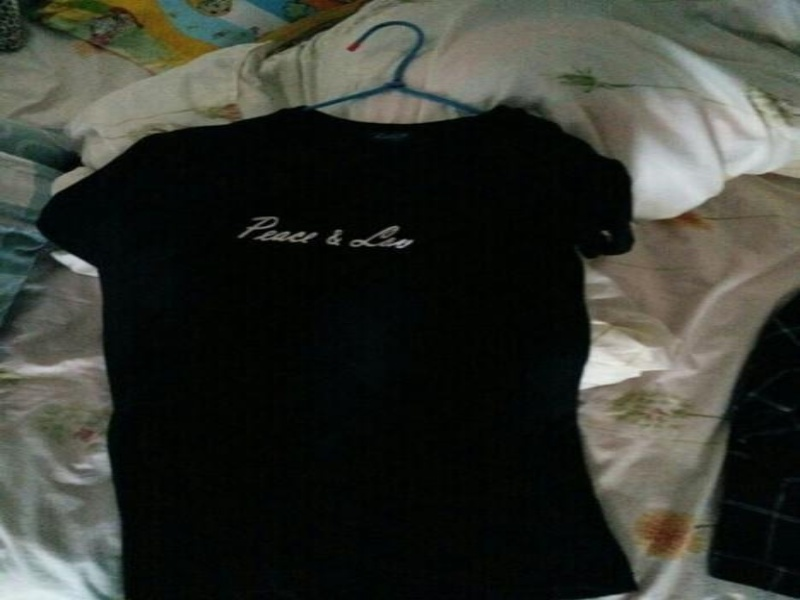short_sleeved_dress: (38, 95, 655, 599)
